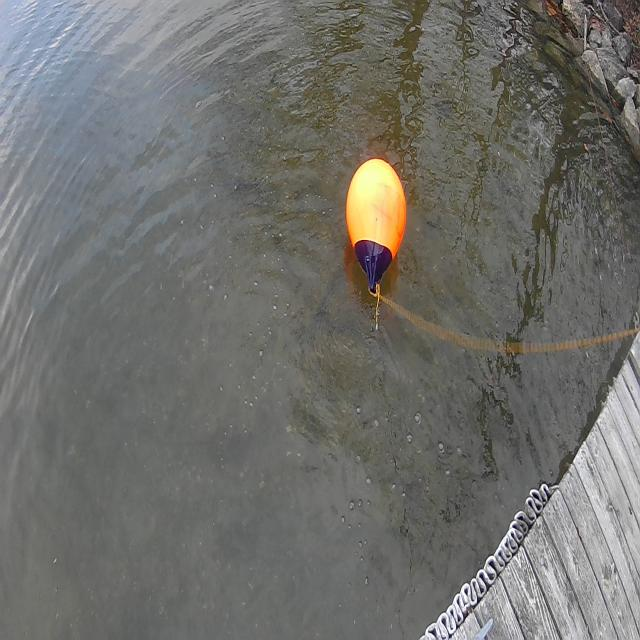Buoy: (341, 150, 412, 296)
